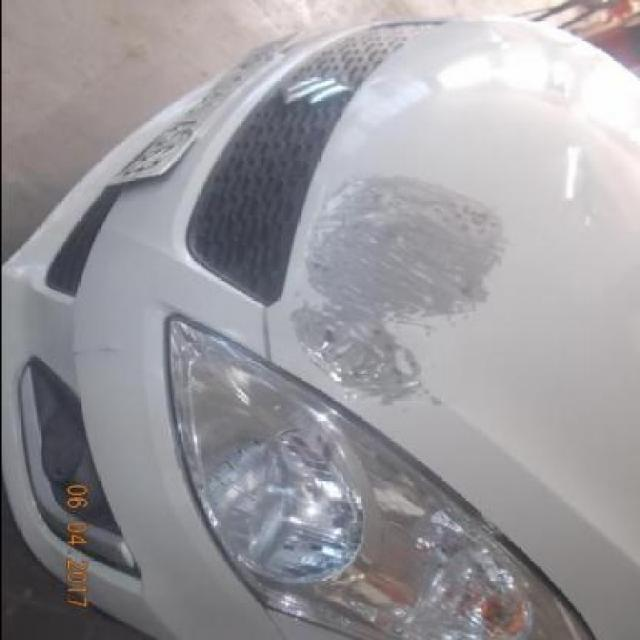damage: (284, 170, 516, 416), (63, 343, 115, 363)
